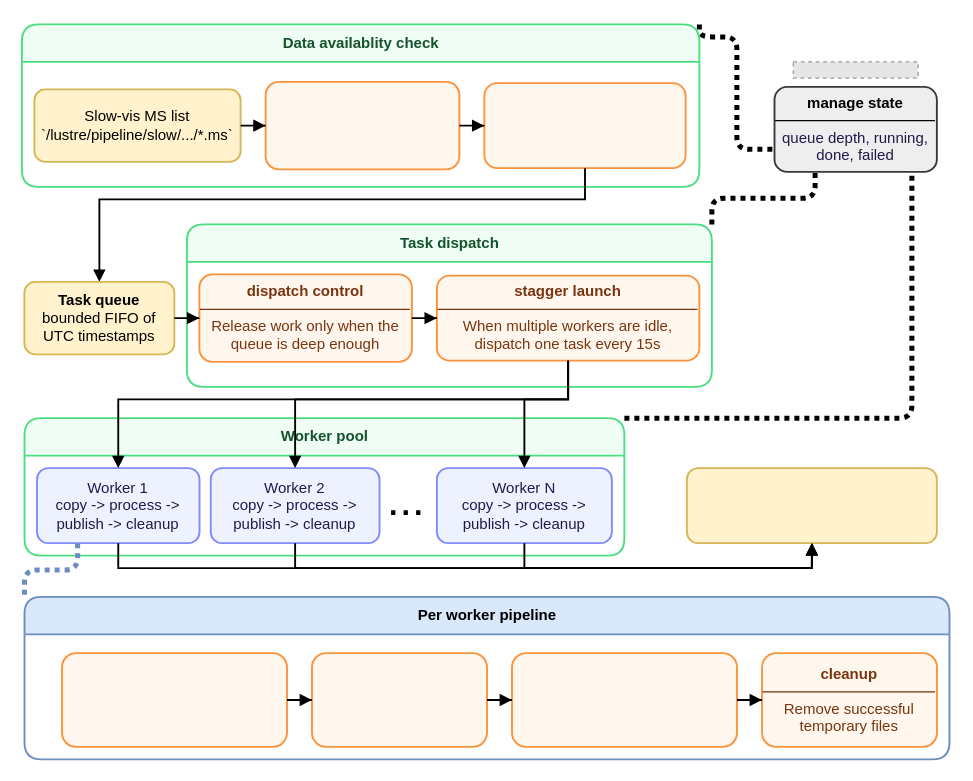
This 973x781 diagram has some shape labels left out. Grey dashed boxes stand in for pictures. Here are the shapes that lost their labels. From the top down, the centre of each, then its label:
pixel 362 125: scan trigger band Poll 55MHz every 5 s and identify UTC timestamps
pixel 584 125: ready check Queue a timestamp when enough bands are present
pixel 811 505: Published outputs `proc_out/mfs`, `proc_out/fch`, `proc_out/fig`, `proc_out/log`
pixel 173 699: copy inputs Copy all available bands into worker-local temporary storage
pixel 398 699: fullband processing Preprocessing imaging and post-processing
pixel 623 699: publish products Write MFS/FCH FITS and HDF products, quicklook figures
